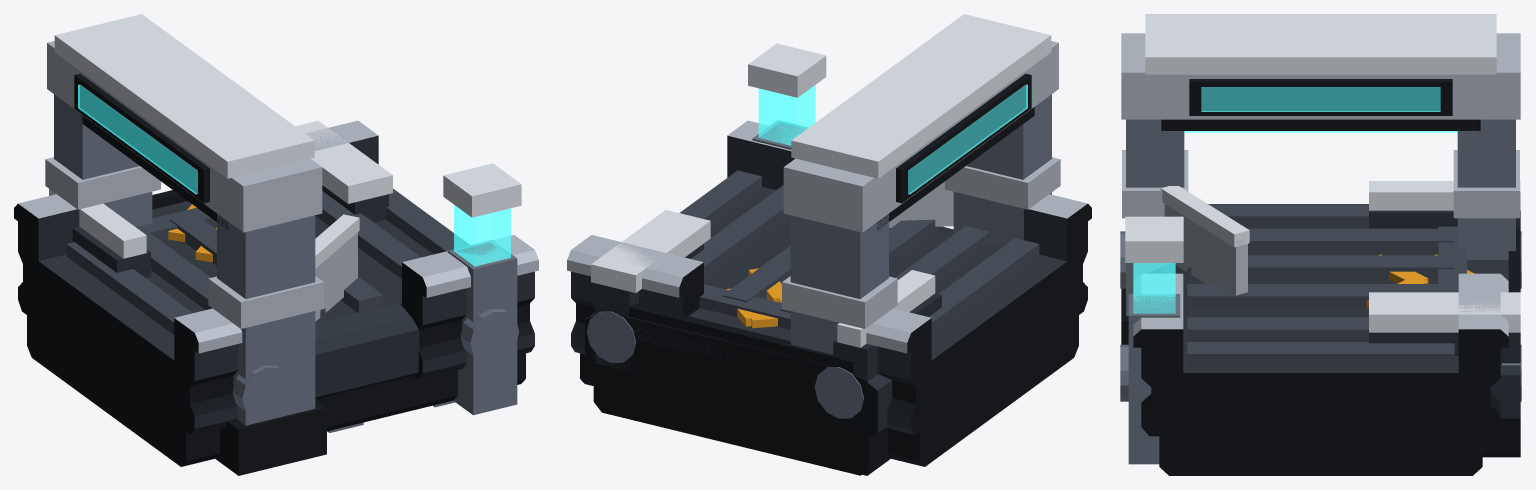
File: sorter.glb
3 renders of one model, left to right at view 1: azimuth 30°, elevation 25°; view 2: azimuth 150°, elevation 25°; view 3: azimuth 270°, elevation 25°, orthographic.
Parts seen in each view (by area): view 1: sorter; view 2: sorter; view 3: sorter.
Boxes of the visible parts, x1,y1,x2,y2 form: sorter: (14, 14, 538, 475); sorter: (567, 14, 1091, 475); sorter: (1120, 14, 1521, 475).
Size of the model in its own units: 1 by 0.877 by 1.01.
